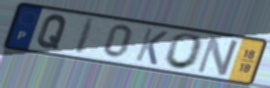0: (101, 24, 136, 60)
I: (72, 17, 98, 57)
K: (133, 26, 170, 67)
N: (194, 35, 241, 78)
O: (162, 32, 206, 72)
Q: (35, 13, 70, 51)
